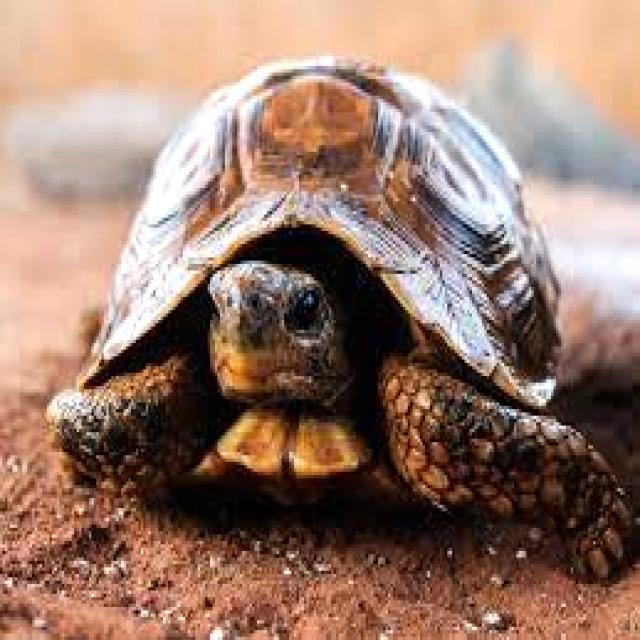Sea turtle: (34, 36, 640, 593)
